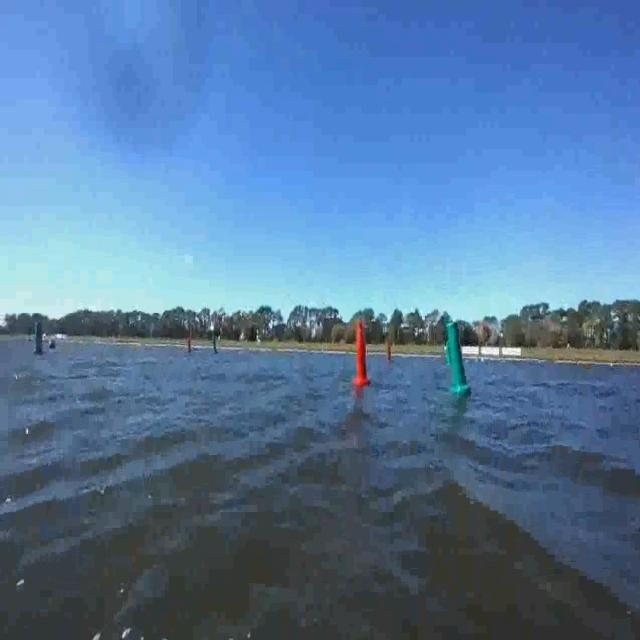green-column-buoy: (445, 320, 473, 395), (31, 319, 47, 358), (212, 333, 220, 356)
red-column-buoy: (353, 318, 370, 387), (185, 332, 194, 355), (384, 340, 391, 362)
